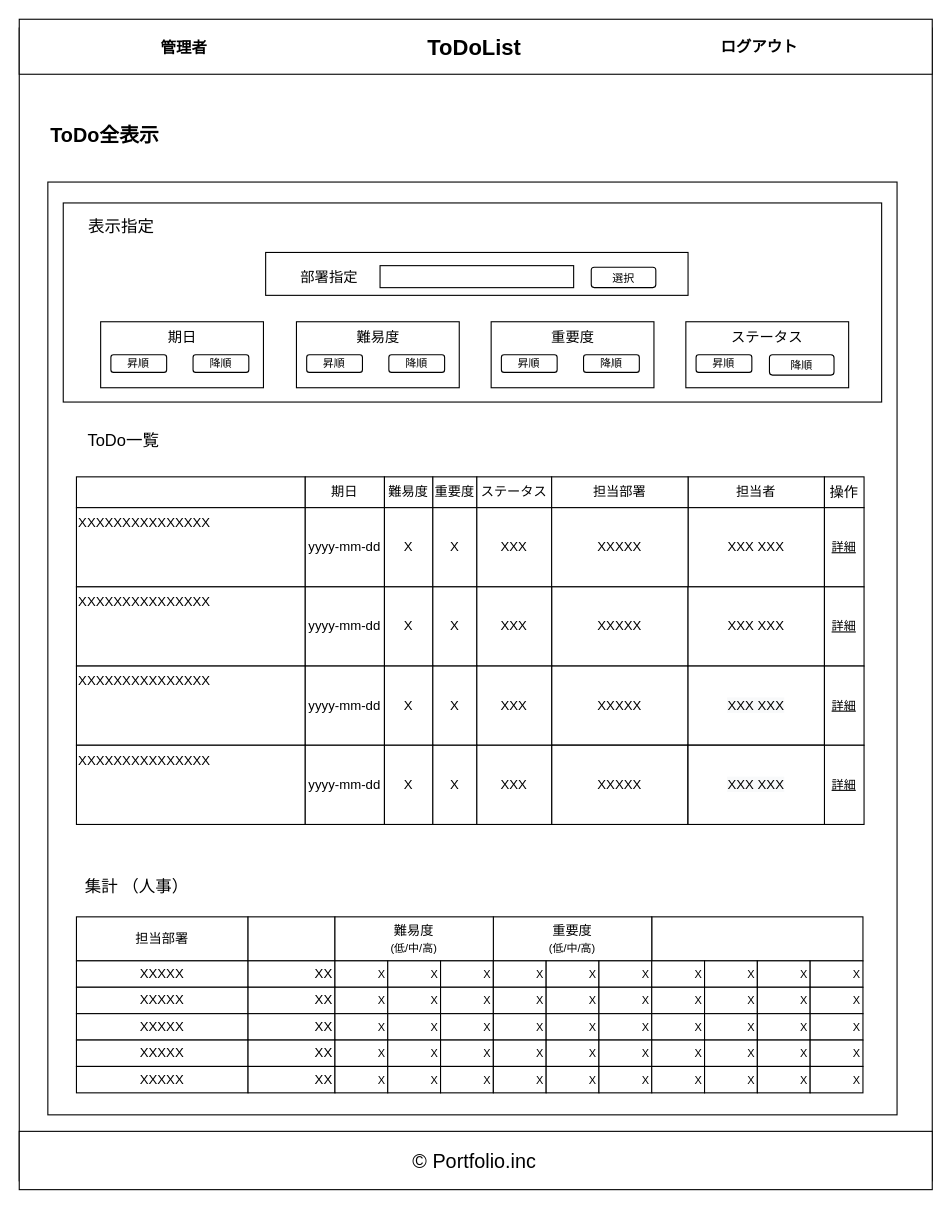
Image size: 952x1218. Some labels were removed from this diagram. Here are the shapes that lost their labels. From the top down, the centre of each, then its label:
pixel 476 276: 人事
pixel 190 492: タイトル
pixel 291 938: ToDo総数
pixel 757 938: ステータス (未着手/進行中/完了/キャンセル)
